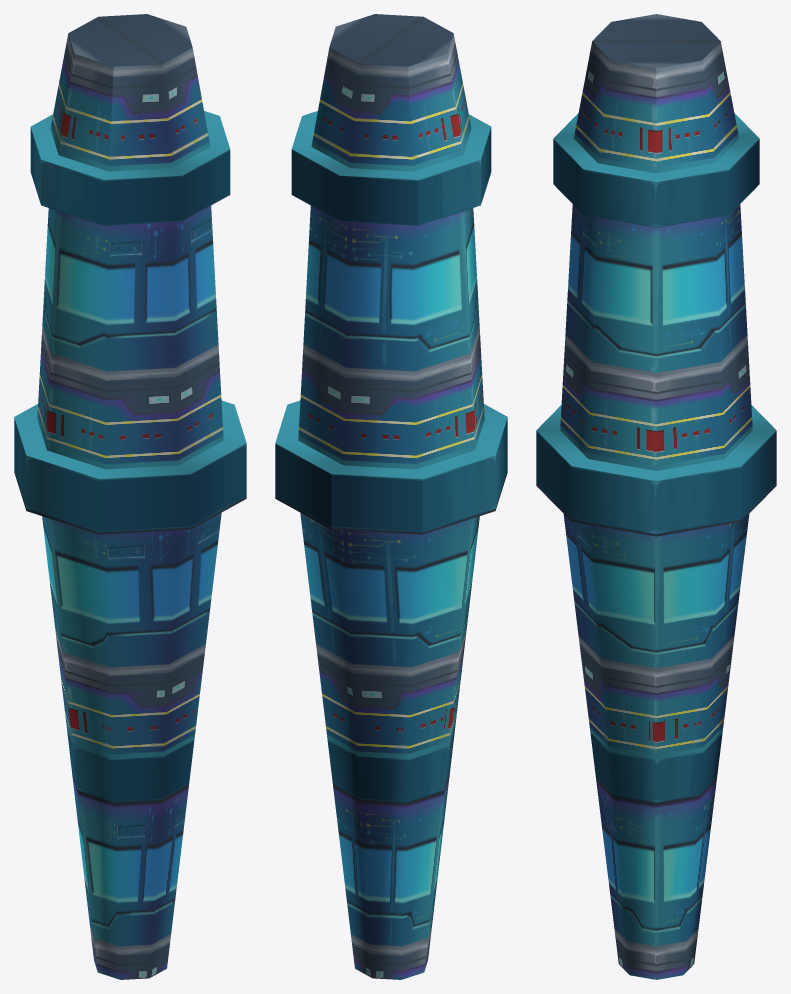
File: rc_02_budA_07.FBX
3 renders of one model, left to right at view 1: azimuth 30°, elevation 25°; view 2: azimuth 150°, elevation 25°; view 3: azimuth 270°, elevation 25°, orthographic.
Visible parts, largest first — view 1: Cylinder001; view 2: Cylinder001; view 3: Cylinder001.
Part boxes in pixels (<box>): Cylinder001: <box>14,14,246,979</box>; Cylinder001: <box>275,14,507,979</box>; Cylinder001: <box>536,14,776,979</box>.
Bounding box in the file's own units: 1181 × 1181 × 5006.
